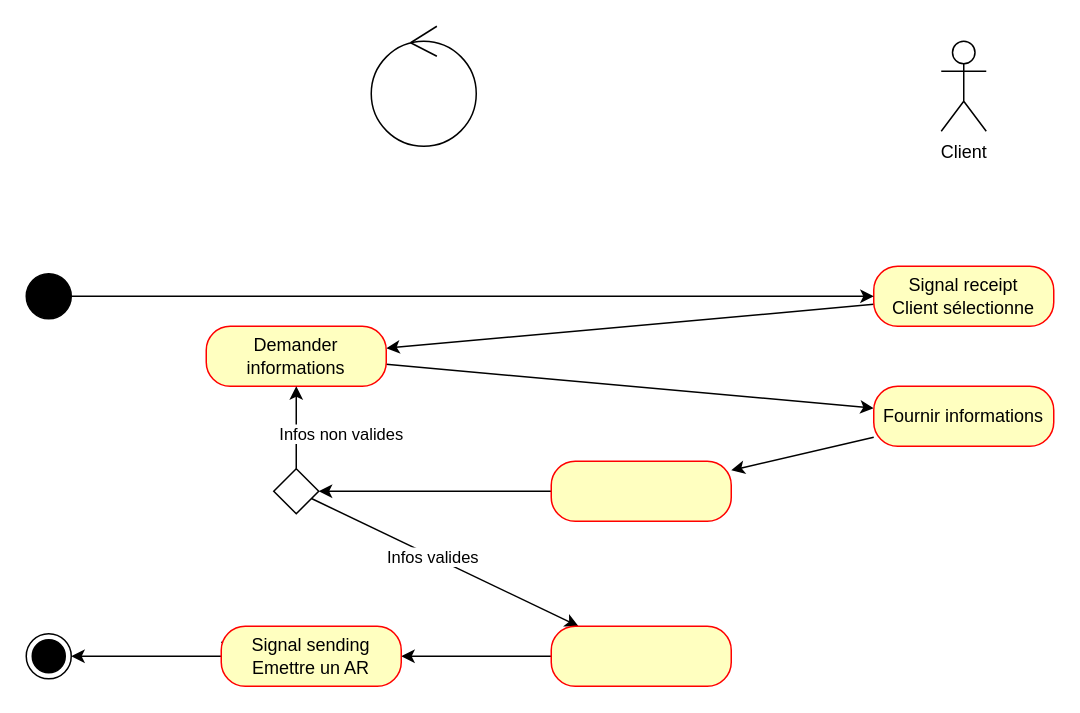
Some shapes in this 1080 by 713 pixel diagram are drawn without their labels. The shapes that lost their labels are listed below. From the top down, each one's centre as x and y in pixels, then its label:
At (x=423, y=85): "Système".
At (x=640, y=490): "Vérifier informations".
At (x=640, y=655): "Enregistrer absence de groupe".
